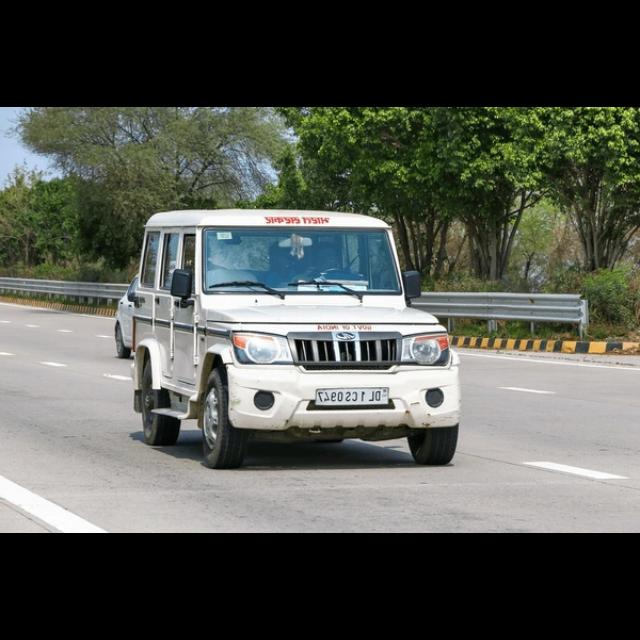vehicles: (128, 205, 460, 470), (115, 278, 138, 356)
